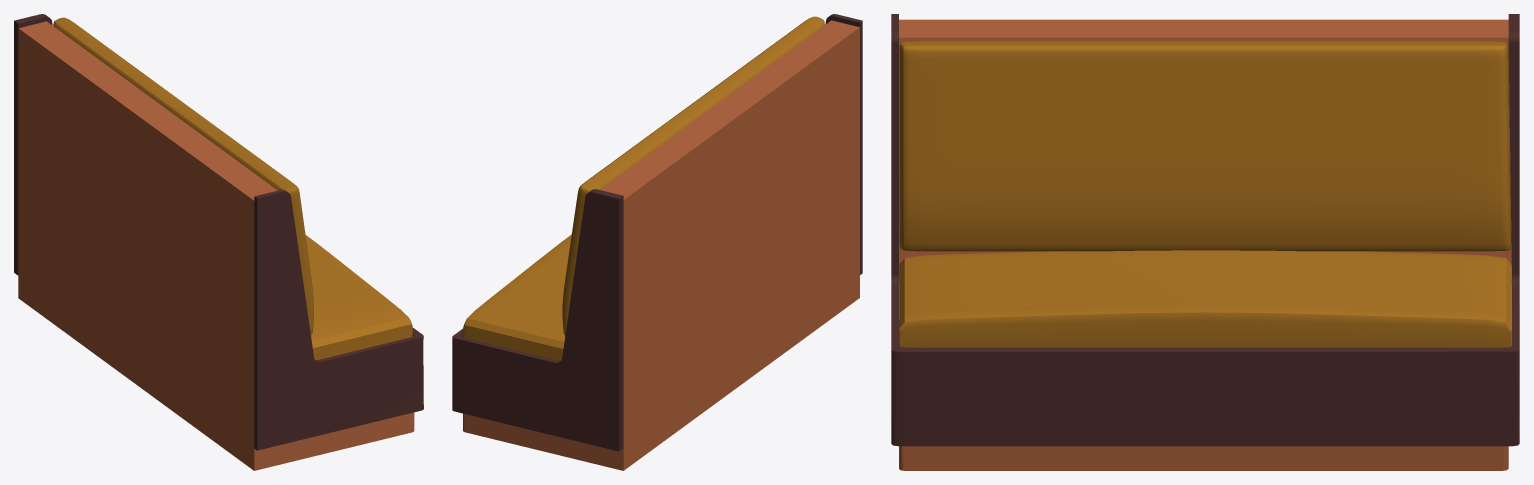
File: Cushion_001.fbx
The picture shows the model from 3 angles, left to right: view 1: azimuth 30°, elevation 25°; view 2: azimuth 150°, elevation 25°; view 3: azimuth 270°, elevation 25°; orthographic projection. The views are drawn at different scales.
Visible parts, largest first — view 1: Cushion_001; view 2: Cushion_001; view 3: Cushion_001.
Boxes of the visible parts, <box> form: Cushion_001: <box>14,14,423,470</box>; Cushion_001: <box>452,14,862,470</box>; Cushion_001: <box>891,14,1519,470</box>.
Bounding box in the file's own units: 132 × 206 × 331.
